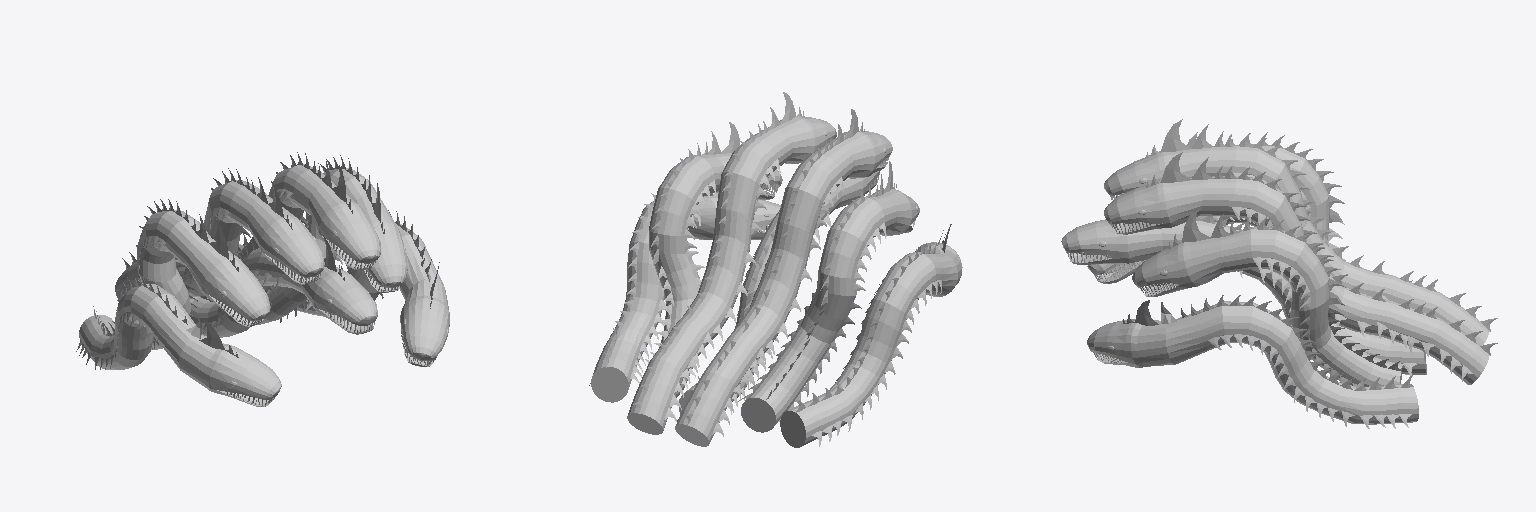
File: DS_Hydra_Flotando02.obj
3 renders of one model, left to right at view 1: azimuth 30°, elevation 25°; view 2: azimuth 150°, elevation 25°; view 3: azimuth 270°, elevation 25°, orthographic.
Parts seen in each view (by area): view 1: default; view 2: default; view 3: default.
Boxes of the visible parts, x1,y1,x2,y2 form: default: [76, 152, 449, 406]; default: [589, 92, 962, 447]; default: [1061, 119, 1497, 428].
Size of the model in its own units: 17.61 by 13.97 by 23.01.